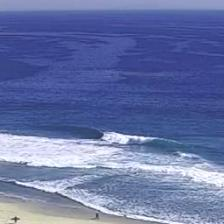surfer: (146, 134, 154, 137), (132, 172, 138, 174)
